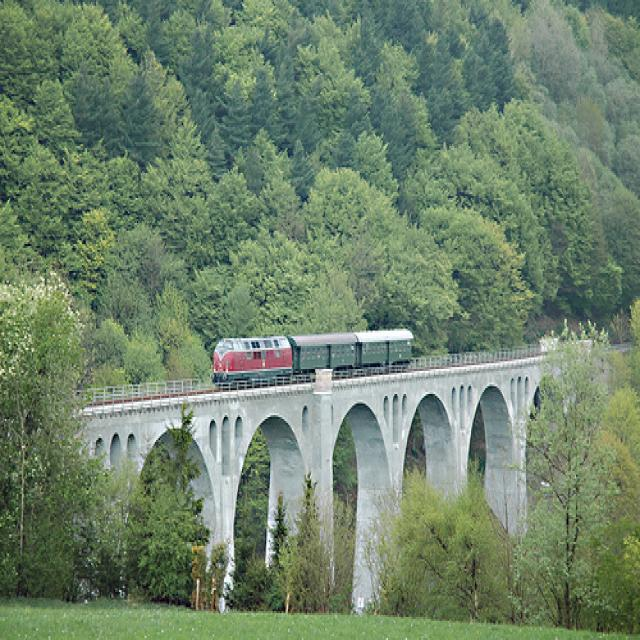boxcar: (289, 329, 359, 378), (354, 327, 416, 371)
locomotive: (209, 334, 293, 388)
